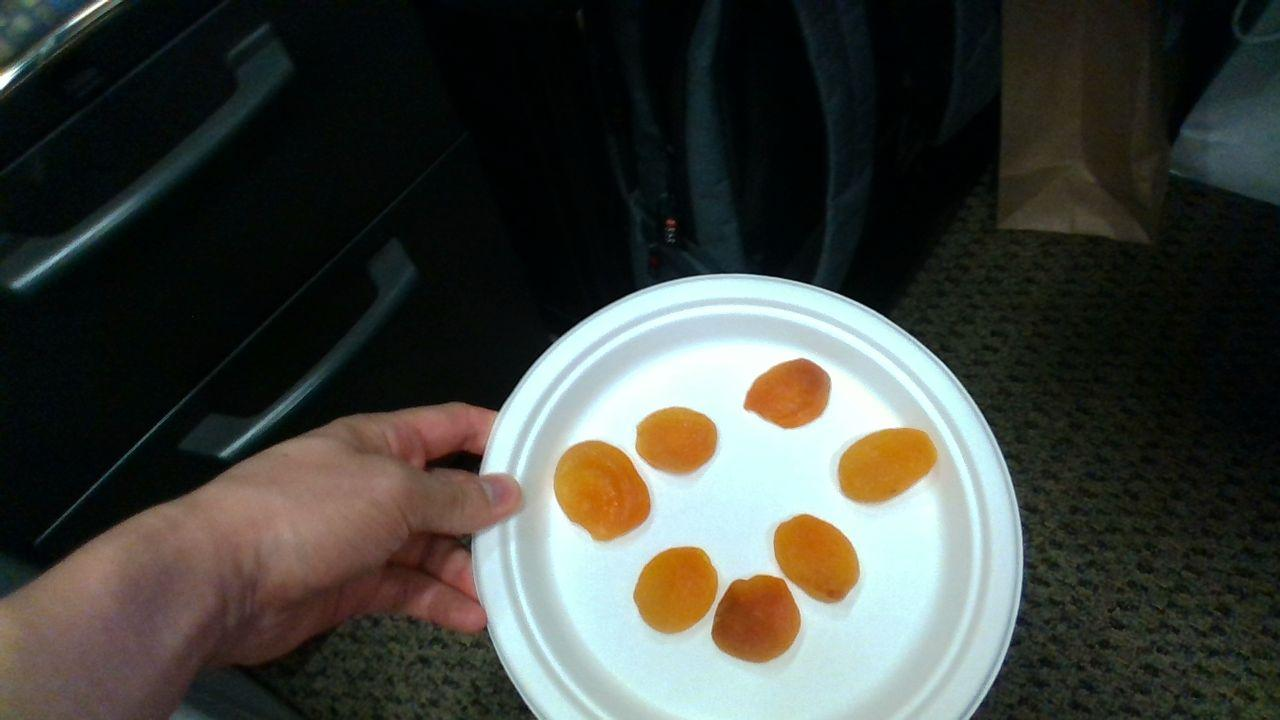apricot: (555, 441, 651, 542), (712, 576, 801, 663), (775, 516, 859, 603), (633, 548, 718, 632), (840, 430, 935, 502), (745, 358, 831, 428), (636, 407, 717, 473)
plate: (471, 274, 1023, 720)
